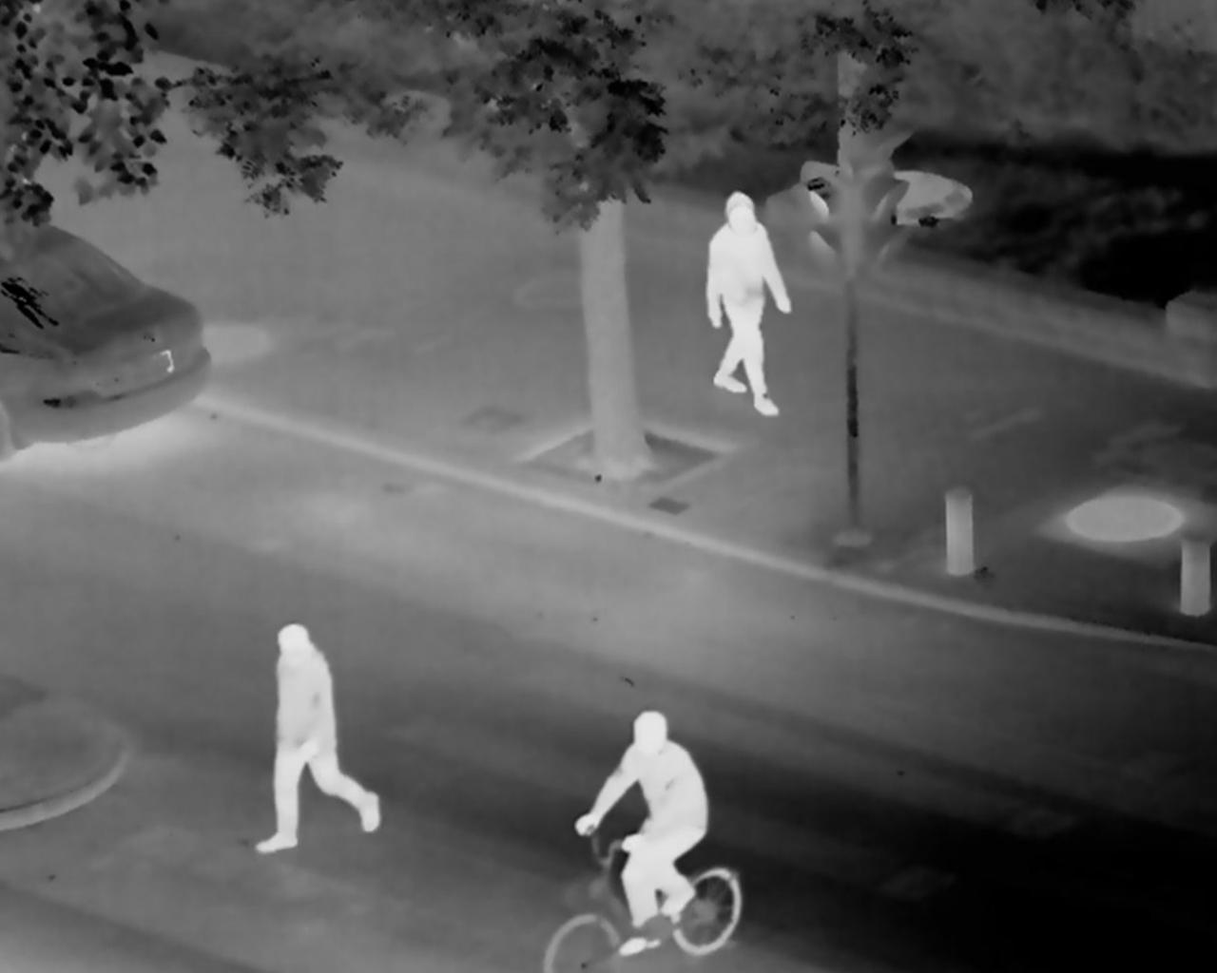person: (241, 606, 375, 874), (575, 688, 710, 943), (689, 189, 786, 409)
